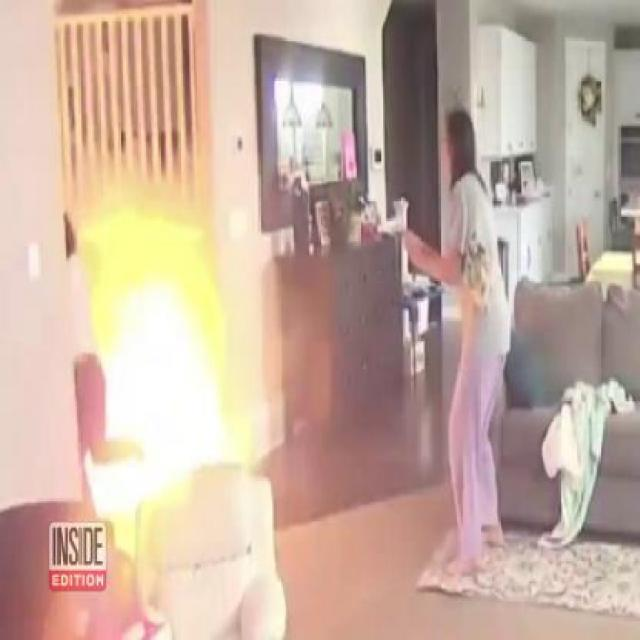fire: (70, 183, 284, 514)
